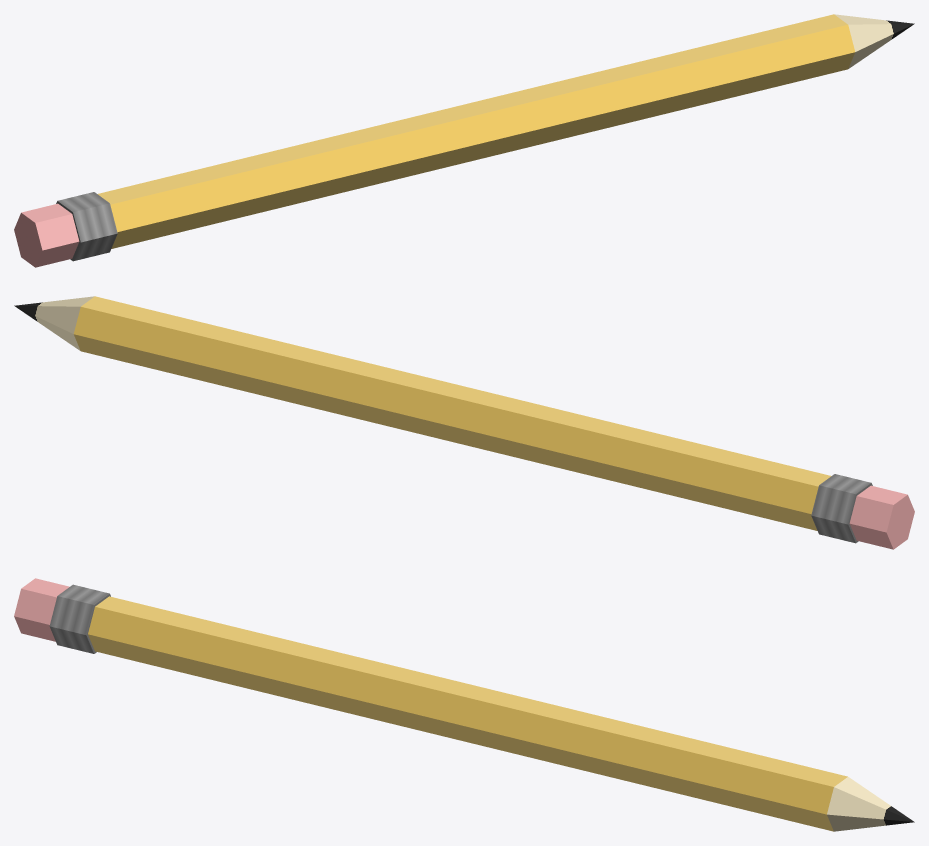
Rendered from pencil.fbx.
3 renders of one model, top to bottom at view 1: azimuth 30°, elevation 25°; view 2: azimuth 150°, elevation 25°; view 3: azimuth 330°, elevation 25°, orthographic.
Parts seen in each view (by area): view 1: Cylinder; view 2: Cylinder; view 3: Cylinder.
Part boxes in pixels (<box>): Cylinder: <box>14,14,914,267</box>; Cylinder: <box>14,296,914,549</box>; Cylinder: <box>14,578,914,831</box>.
Bounding box in the file's own units: 360 × 19.05 × 22.
1 material, 1 textured.
